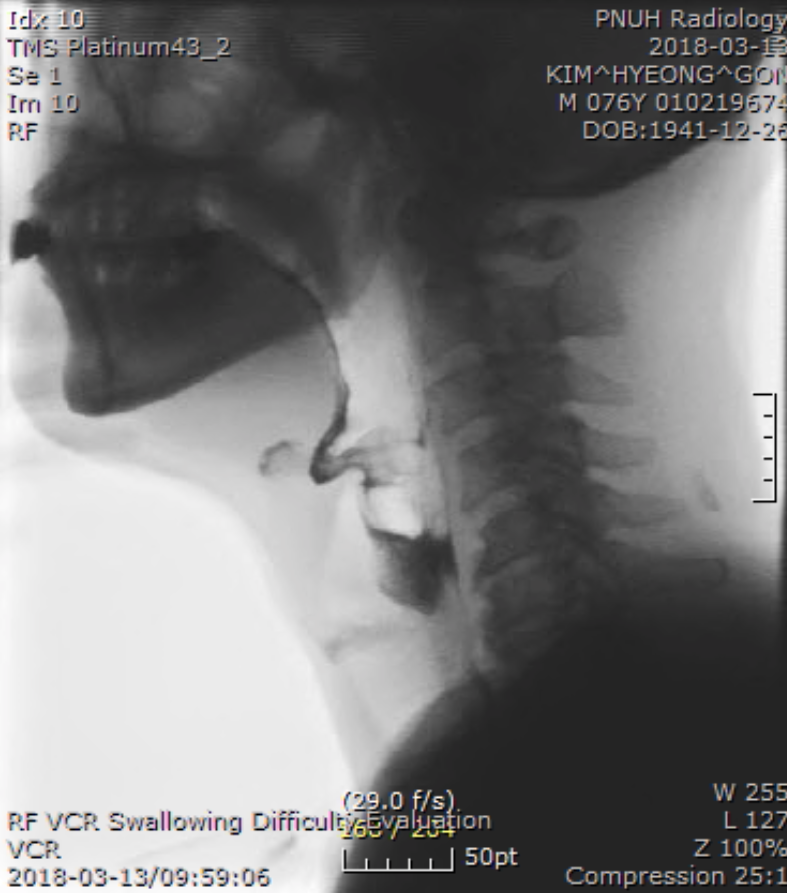dros: (410, 520, 485, 619)
food: (271, 363, 473, 627)
uros: (298, 395, 370, 488)
